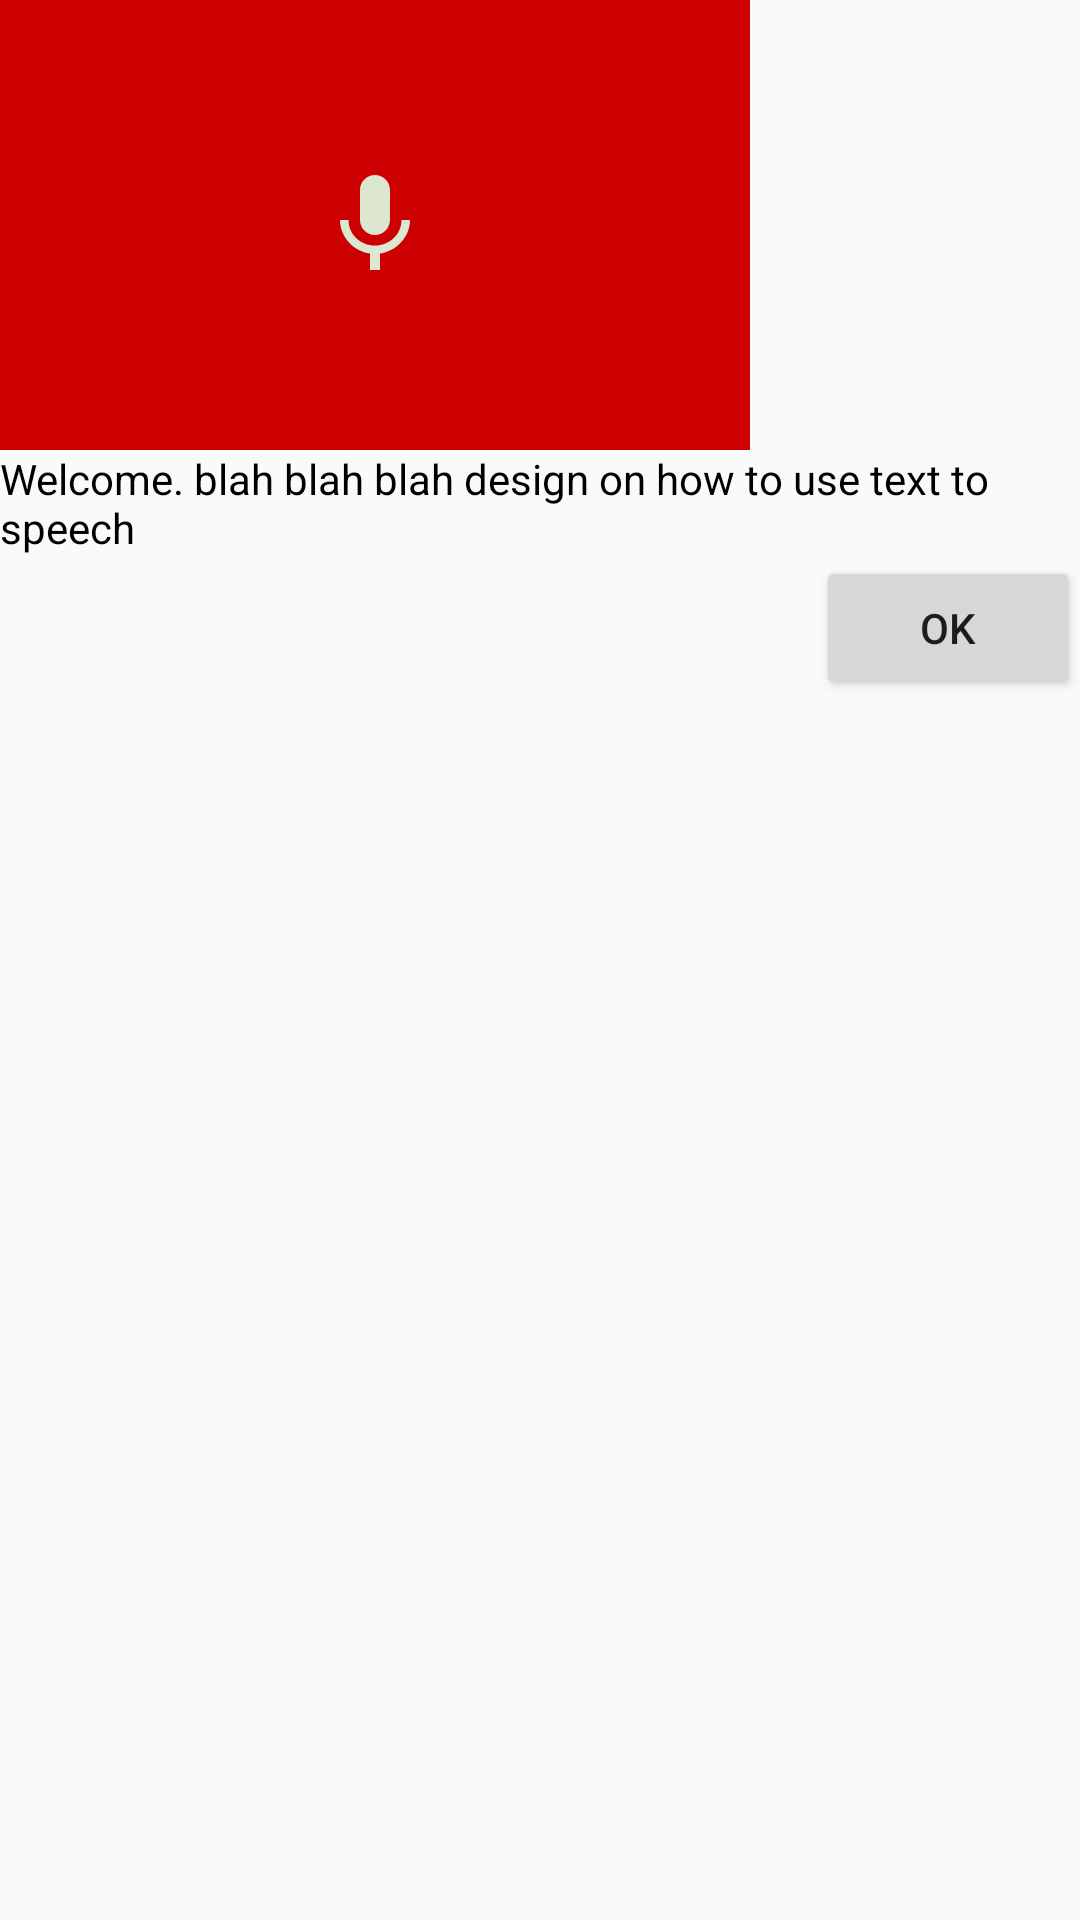

Icons on this 1080px x 1920px Android screen, each with the point to tap as [x,y]:
mic: [375,222]
